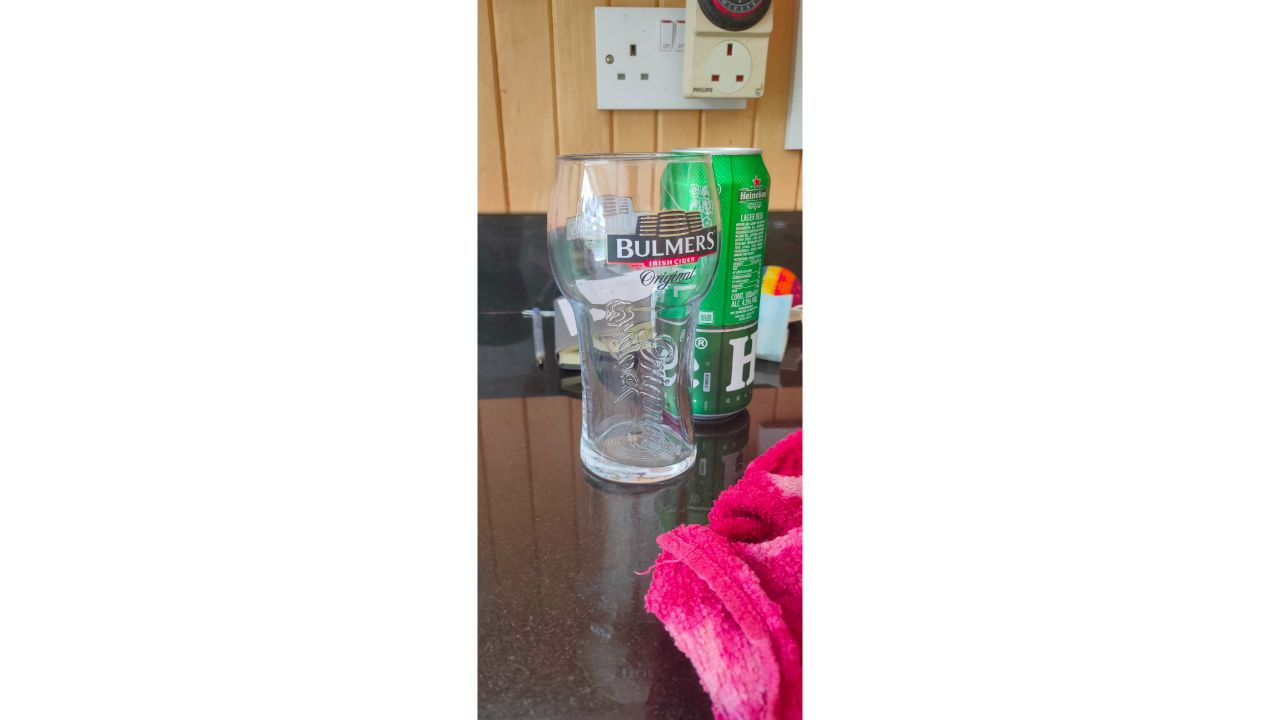Can: (657, 147, 771, 420)
